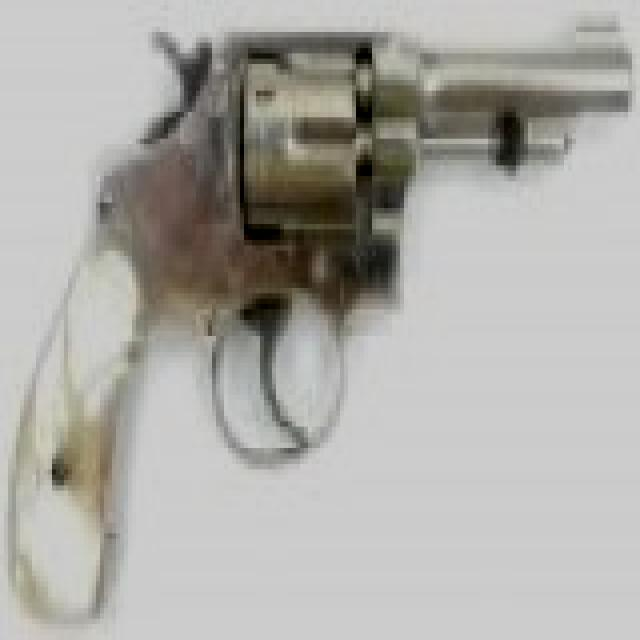pistol: (16, 11, 628, 597)
